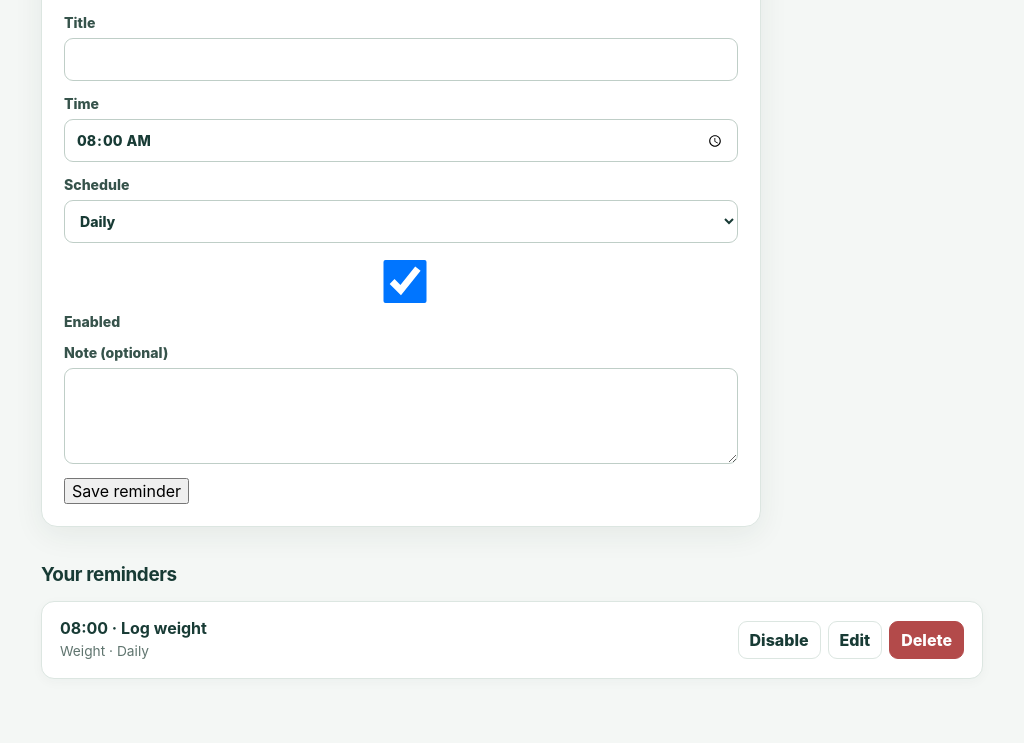
Test: RemindersPage › creates, disables, and renders a reminder
(page scrolled)
Expected: the text "08:00 · Log weight" is shown, [60, 618, 207, 638]
Click the button "Disable" at (779, 640), box [738, 621, 820, 659]
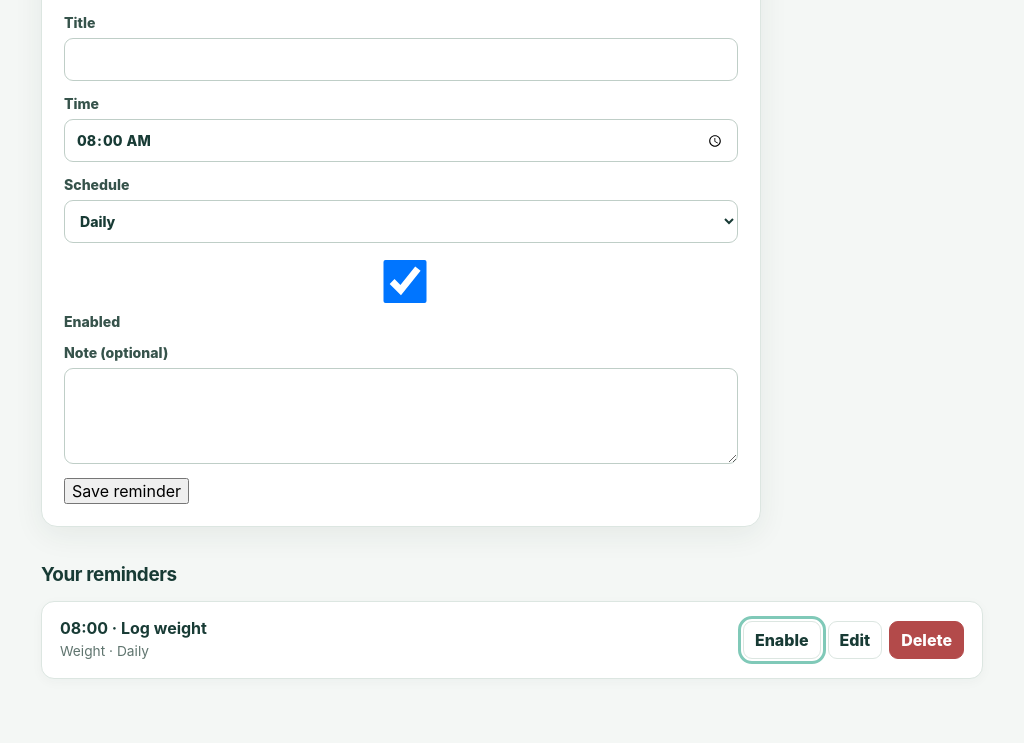
Result: the button "Enable" is shown at [743, 621, 821, 659]
